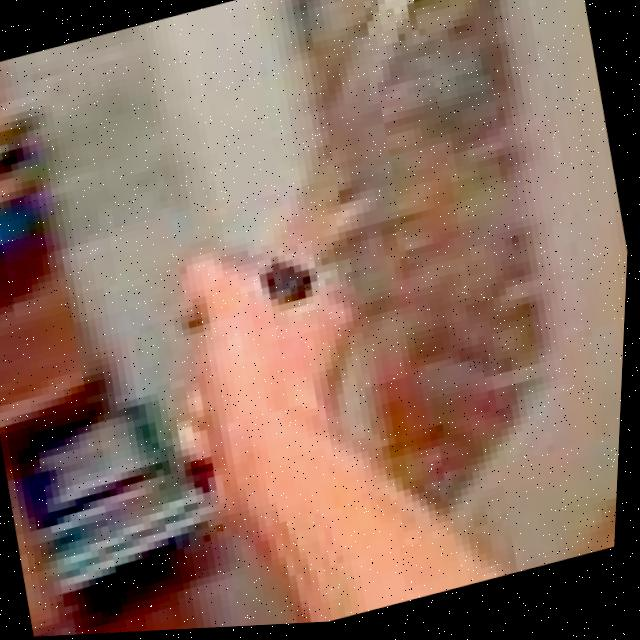knife: (208, 0, 513, 298)
